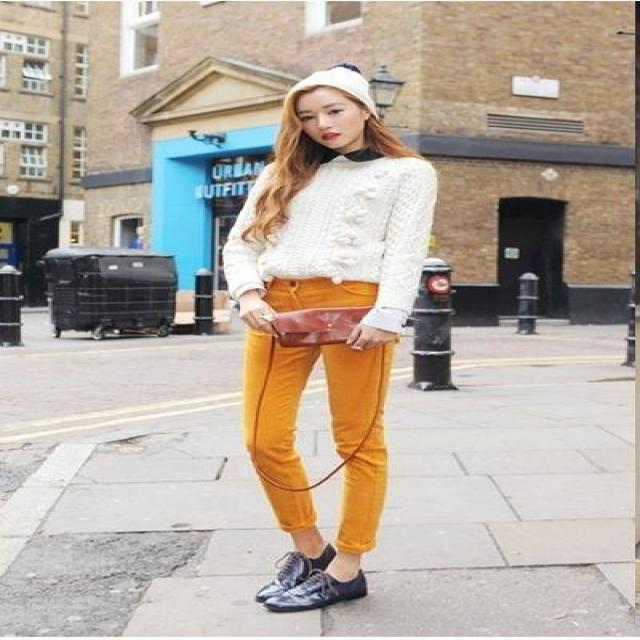bag: (264, 306, 365, 355)
hat: (326, 67, 373, 108)
pants: (244, 276, 398, 557)
shirt: (222, 156, 448, 333)
shoe: (288, 544, 365, 611)
